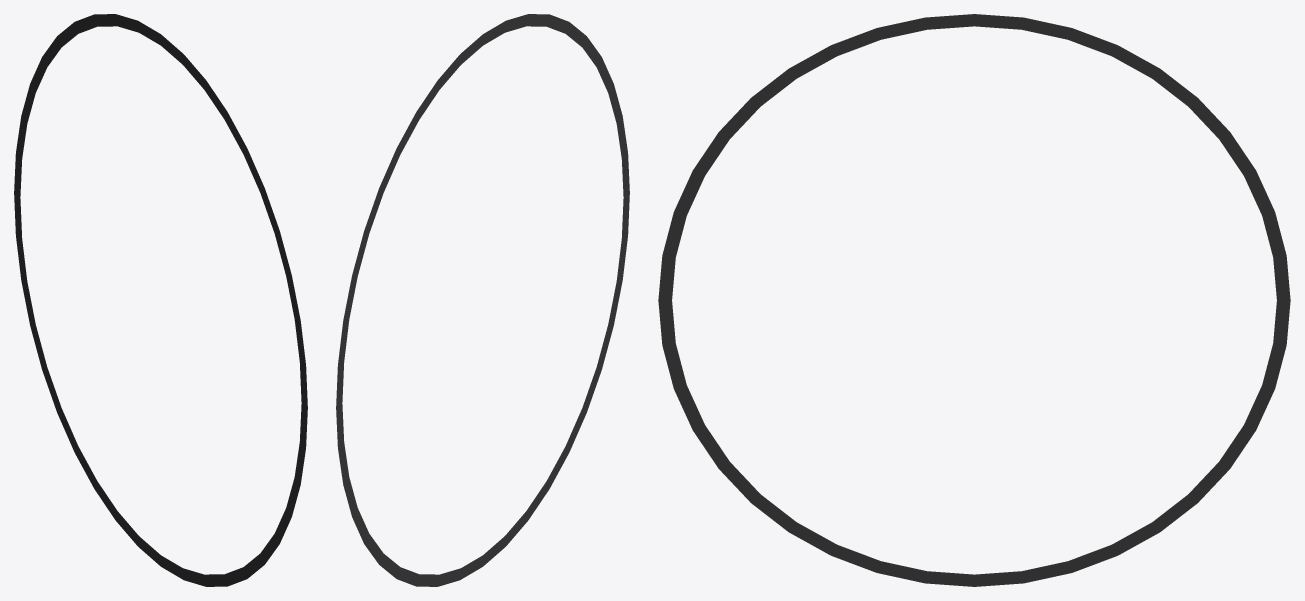
The model's file is 50bd9c625d7a_3_SphereWire01_Ring.glb.
3 renders of one model, left to right at view 1: azimuth 30°, elevation 25°; view 2: azimuth 150°, elevation 25°; view 3: azimuth 270°, elevation 25°, orthographic. The views are drawn at different scales.
Parts seen in each view (by area): view 1: 50bd9c625d7a_3_SphereWire01_Ring.obj; view 2: 50bd9c625d7a_3_SphereWire01_Ring.obj; view 3: 50bd9c625d7a_3_SphereWire01_Ring.obj.
Part boxes in pixels (left/top/right/bottom): 50bd9c625d7a_3_SphereWire01_Ring.obj: left=14, top=14, right=307, bottom=586; 50bd9c625d7a_3_SphereWire01_Ring.obj: left=336, top=14, right=629, bottom=586; 50bd9c625d7a_3_SphereWire01_Ring.obj: left=658, top=14, right=1290, bottom=586.
Size of the model in its own units: 7.67e-08 by 1.02 by 1.02.
Materials: 1 (1 with a texture image).
